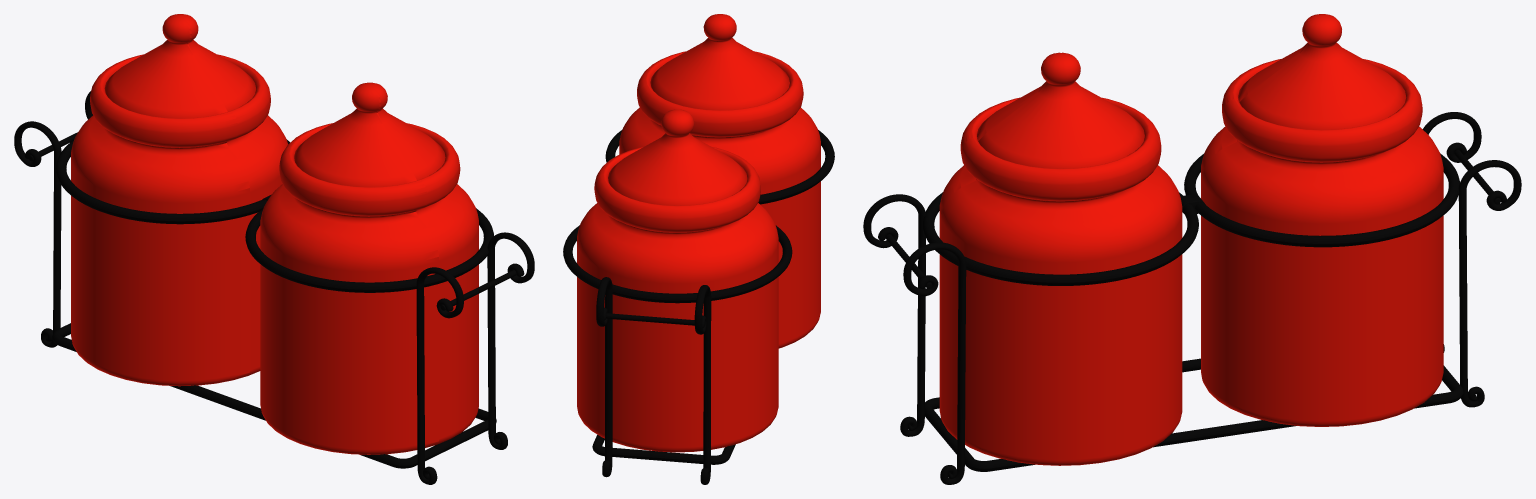
The model's file is jars.FBX.
The picture shows the model from 3 angles, left to right: view 1: azimuth 30°, elevation 25°; view 2: azimuth 150°, elevation 25°; view 3: azimuth 270°, elevation 25°; orthographic projection. The views are drawn at different scales.
Visible parts, largest first — view 1: Cylinder04, Cylinder01, posud 2, Circle060, Circle54, Circle050, Rectangle1, Circle05, Circle30; view 2: Cylinder01, Cylinder04, posud 2, Circle54, Circle30, Circle06, Circle060, Rectangle1, ChamferCy0; view 3: Cylinder01, Cylinder04, posud 2, Circle54, Circle060, Rectangle1, Circle05, Circle06, Circle050, Circle30.
Boxes of the visible parts, x1,y1,x2,y2 form: Cylinder04: (260, 123, 478, 454); Cylinder01: (71, 54, 288, 386); posud 2: (104, 14, 445, 187); Circle060: (245, 208, 493, 292); Circle54: (56, 139, 289, 224); Circle050: (416, 267, 463, 484); Rectangle1: (52, 323, 496, 468); Circle05: (487, 232, 534, 449); Circle30: (14, 121, 61, 347); Cylinder01: (577, 146, 778, 452); Cylinder04: (619, 51, 820, 348); posud 2: (608, 14, 789, 205); Circle54: (563, 225, 792, 303); Circle30: (694, 285, 711, 484); Circle06: (596, 277, 612, 477); Circle060: (605, 129, 834, 204); Rectangle1: (592, 434, 735, 464); ChamferCy0: (606, 313, 705, 325); Cylinder01: (1201, 59, 1443, 426); Cylinder04: (939, 97, 1182, 465); posud 2: (977, 14, 1406, 168); Circle54: (1184, 153, 1459, 247); Circle060: (923, 192, 1198, 285); Rectangle1: (924, 358, 1463, 471); Circle05: (903, 242, 966, 484); Circle06: (1458, 160, 1521, 407); Circle050: (863, 194, 925, 436); Circle30: (1422, 112, 1481, 352).
Size of the model in its own units: 15.97 by 18.46 by 28.56.
